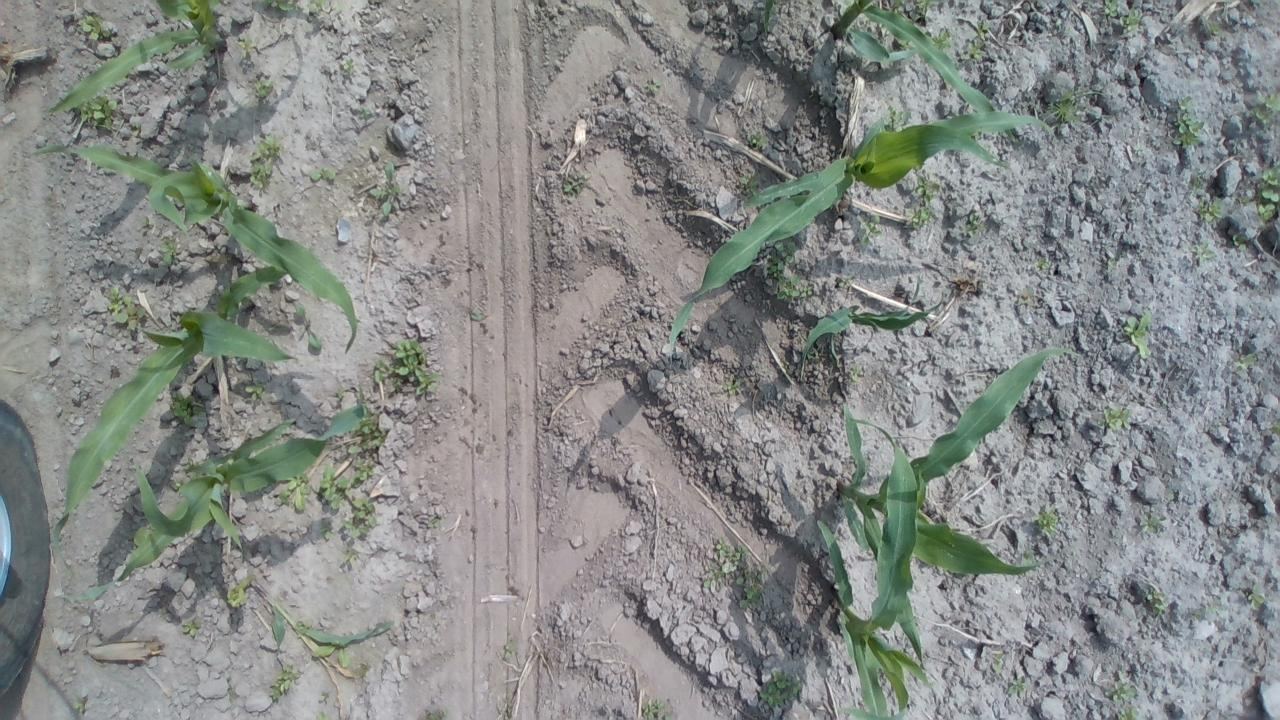Maize: (666, 108, 1054, 362), (837, 349, 1082, 672), (29, 142, 361, 354), (55, 260, 288, 557), (62, 402, 365, 602), (812, 421, 933, 720), (759, 0, 1014, 139), (42, 0, 228, 118), (247, 579, 396, 652)
Weeds: (700, 536, 770, 612), (371, 336, 447, 399), (321, 458, 378, 540), (762, 240, 814, 303), (1042, 89, 1104, 128), (105, 286, 145, 343), (368, 160, 404, 218), (349, 402, 386, 454), (250, 134, 284, 190), (759, 666, 802, 708), (1172, 96, 1204, 148), (168, 388, 208, 428), (73, 94, 116, 130), (275, 470, 310, 512), (1123, 312, 1153, 360), (1256, 162, 1280, 222), (294, 304, 324, 350), (310, 637, 350, 670), (1246, 89, 1280, 126), (269, 664, 302, 702), (962, 18, 988, 62), (1103, 672, 1138, 703), (913, 168, 942, 204), (77, 13, 111, 41), (1196, 197, 1228, 226), (1033, 510, 1062, 540), (226, 576, 252, 609), (1100, 406, 1134, 431), (1144, 586, 1169, 618), (640, 697, 673, 720), (961, 211, 986, 240), (1138, 512, 1168, 536), (887, 103, 912, 131), (861, 212, 882, 245), (905, 206, 936, 228), (1192, 240, 1218, 265), (560, 172, 584, 198), (738, 170, 759, 198), (306, 0, 352, 12), (242, 376, 264, 401), (1005, 677, 1031, 698), (256, 0, 296, 13), (307, 165, 337, 182), (157, 241, 179, 264), (1121, 10, 1142, 34), (1248, 584, 1266, 610), (1232, 352, 1258, 369), (236, 34, 256, 56), (254, 78, 274, 99), (932, 30, 951, 51), (1232, 232, 1250, 252), (182, 618, 200, 638), (990, 652, 1006, 674), (749, 132, 771, 148), (1053, 17, 1073, 34), (341, 548, 358, 568), (1022, 285, 1038, 306), (914, 0, 936, 15), (73, 692, 88, 714), (1205, 19, 1222, 37), (1103, 0, 1121, 17), (643, 78, 663, 93), (418, 516, 440, 529), (725, 380, 742, 396), (897, 38, 916, 52), (1119, 706, 1138, 720), (1202, 602, 1222, 615), (847, 367, 862, 384), (1020, 548, 1034, 566), (425, 709, 447, 720), (342, 55, 354, 75), (182, 455, 196, 472), (890, 0, 906, 14), (468, 308, 484, 322), (502, 640, 514, 658), (357, 106, 371, 121), (1133, 142, 1147, 156), (1035, 260, 1050, 273), (335, 384, 347, 400), (1107, 256, 1117, 274), (130, 121, 142, 136), (313, 711, 332, 720), (807, 350, 821, 361), (294, 618, 306, 630), (836, 278, 850, 288), (319, 691, 329, 705), (778, 358, 790, 369), (1272, 419, 1280, 433), (1194, 174, 1202, 188), (1241, 195, 1250, 205), (174, 481, 184, 490)
